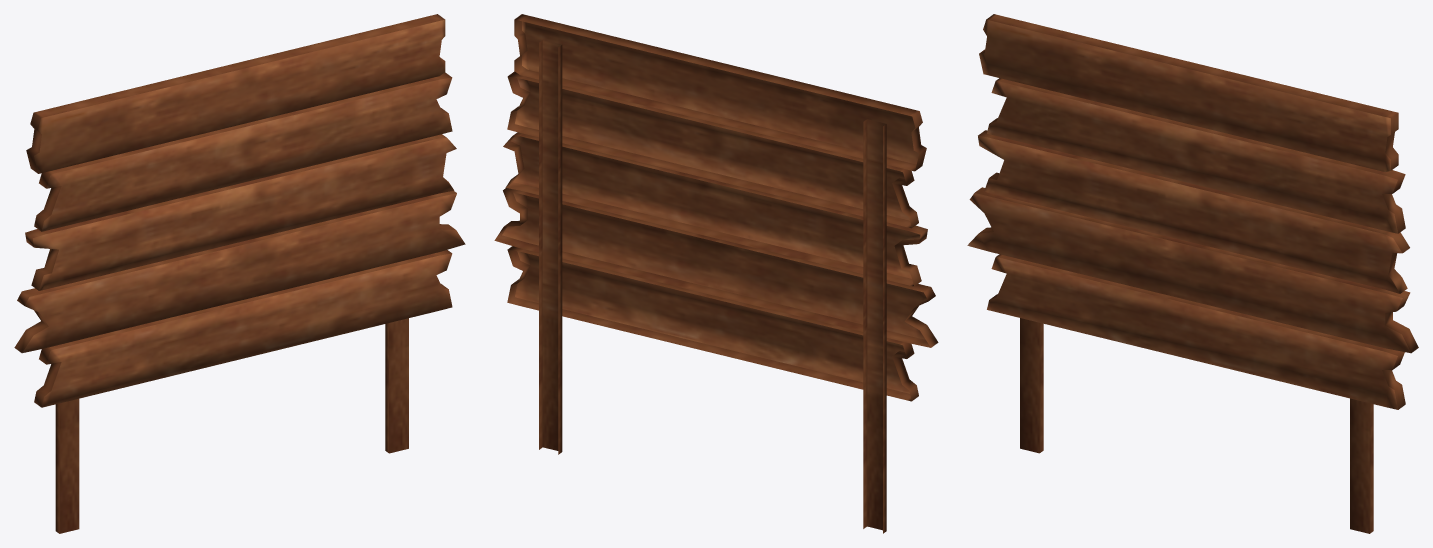
The model's file is wooden_sign.fbx.
3 renders of one model, left to right at view 1: azimuth 30°, elevation 25°; view 2: azimuth 150°, elevation 25°; view 3: azimuth 330°, elevation 25°, orthographic.
Parts seen in each view (by area): view 1: wood_sign:polySurface7; view 2: wood_sign:polySurface7; view 3: wood_sign:polySurface7.
Part boxes in pixels (x1,y1,x2,y2): wood_sign:polySurface7: (14, 14, 465, 533); wood_sign:polySurface7: (494, 14, 938, 533); wood_sign:polySurface7: (967, 14, 1418, 533).
Bounding box in the file's own units: 135 × 124 × 6.06.
